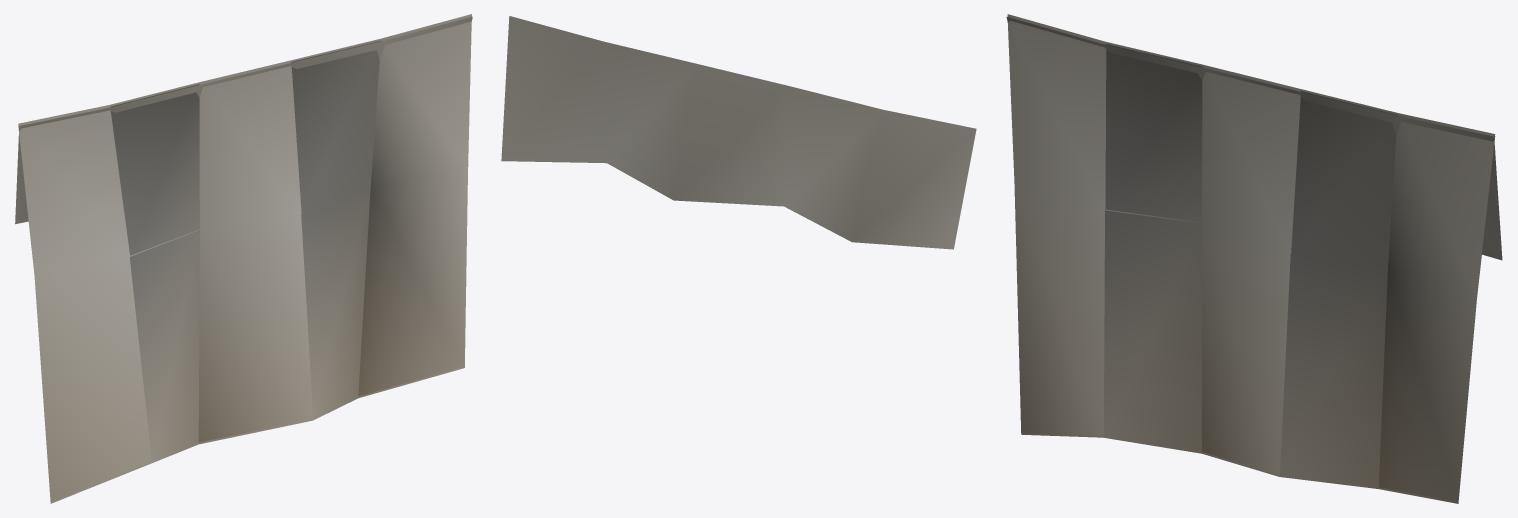
The model's file is prop_strain_cloth.glb.
3 views of the same model, side by side, from view 1: azimuth 30°, elevation 25°; view 2: azimuth 150°, elevation 25°; view 3: azimuth 330°, elevation 25° (orthographic). The views are drawn at different scales.
Visible parts, largest first — view 1: prop_strain_cloth_mesh; view 2: prop_strain_cloth_mesh; view 3: prop_strain_cloth_mesh.
Boxes of the visible parts, x1=… form: prop_strain_cloth_mesh: x1=15, y1=14, x2=472, y2=503; prop_strain_cloth_mesh: x1=501, y1=16, x2=976, y2=249; prop_strain_cloth_mesh: x1=1006, y1=14, x2=1502, y2=503.
Bounding box in the file's own units: 0.7998 × 0.6379 × 0.1299.
